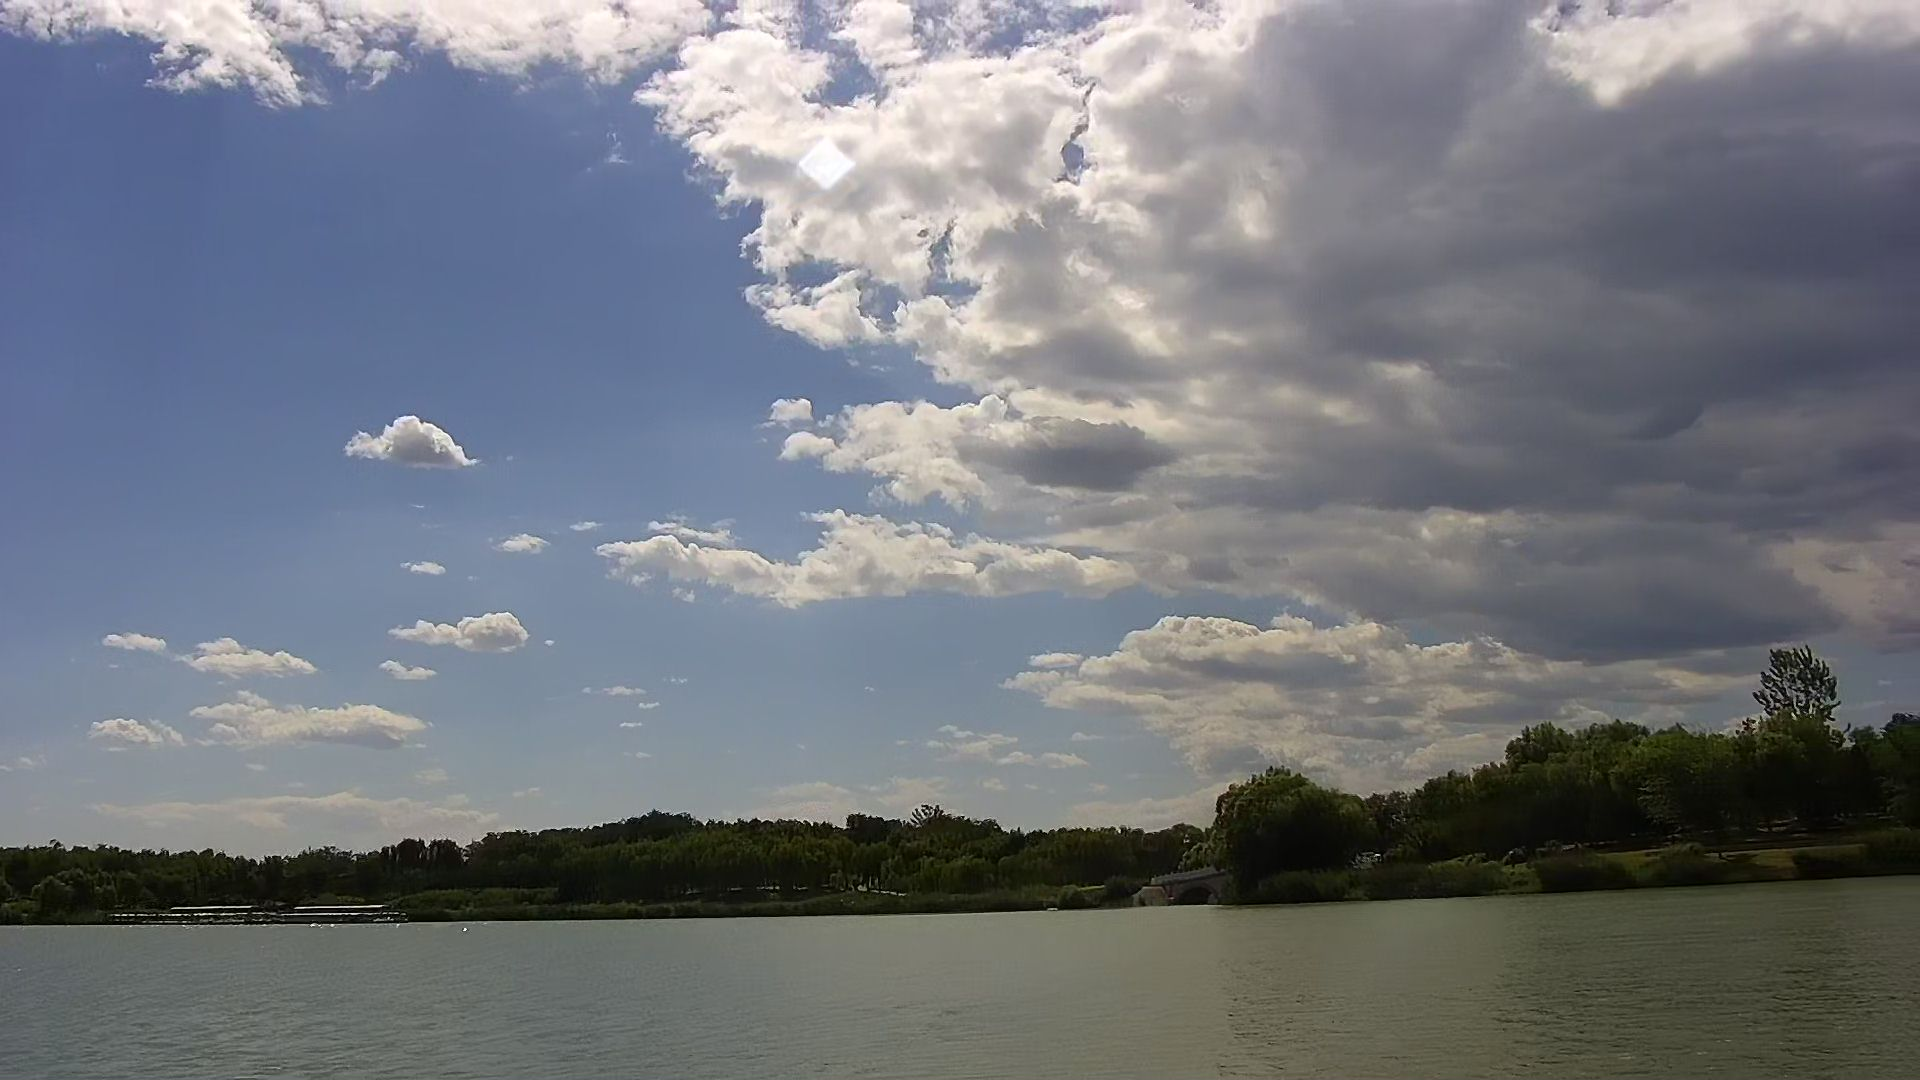harbor: (117, 903, 394, 927)
